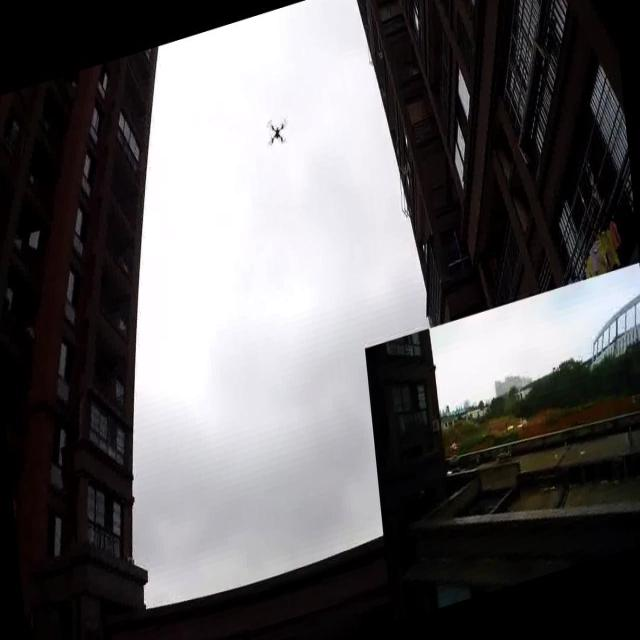drone: (263, 100, 292, 155)
